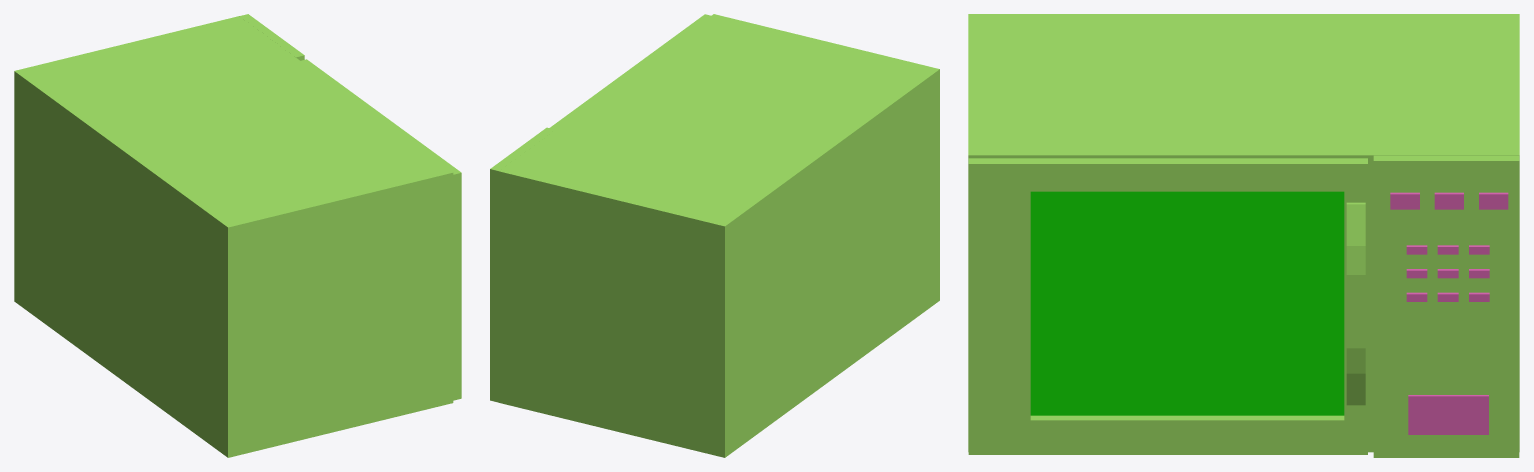
File: microwave.fbx
3 renders of one model, left to right at view 1: azimuth 30°, elevation 25°; view 2: azimuth 150°, elevation 25°; view 3: azimuth 270°, elevation 25°, orthographic. The views are drawn at different scales.
Parts seen in each view (by area): view 1: microwave, door; view 2: microwave, door; view 3: microwave, glass, door, buttons, handle.
Boxes of the visible parts, x1,y1,x2,y2 form: microwave: (14, 14, 453, 457); door: (301, 59, 461, 400); microwave: (490, 14, 939, 457); door: (549, 14, 710, 129); microwave: (968, 14, 1519, 457); glass: (1030, 191, 1344, 415); door: (968, 158, 1367, 454); buttons: (1390, 192, 1508, 434); handle: (1346, 202, 1365, 405).
Bounding box in the file's own units: 225 × 200 × 337.
